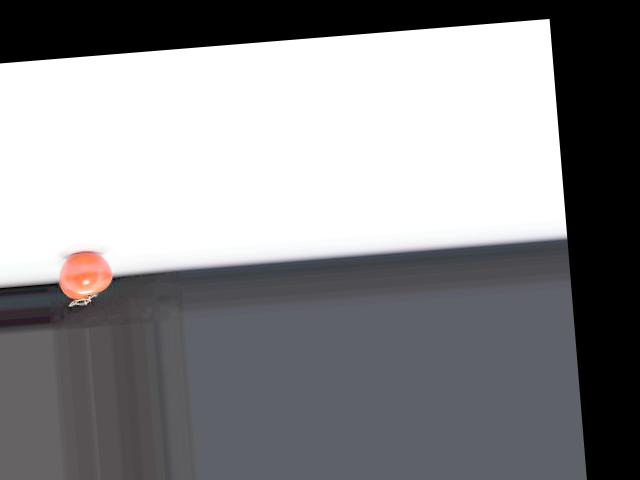tomato: (57, 249, 114, 300)
